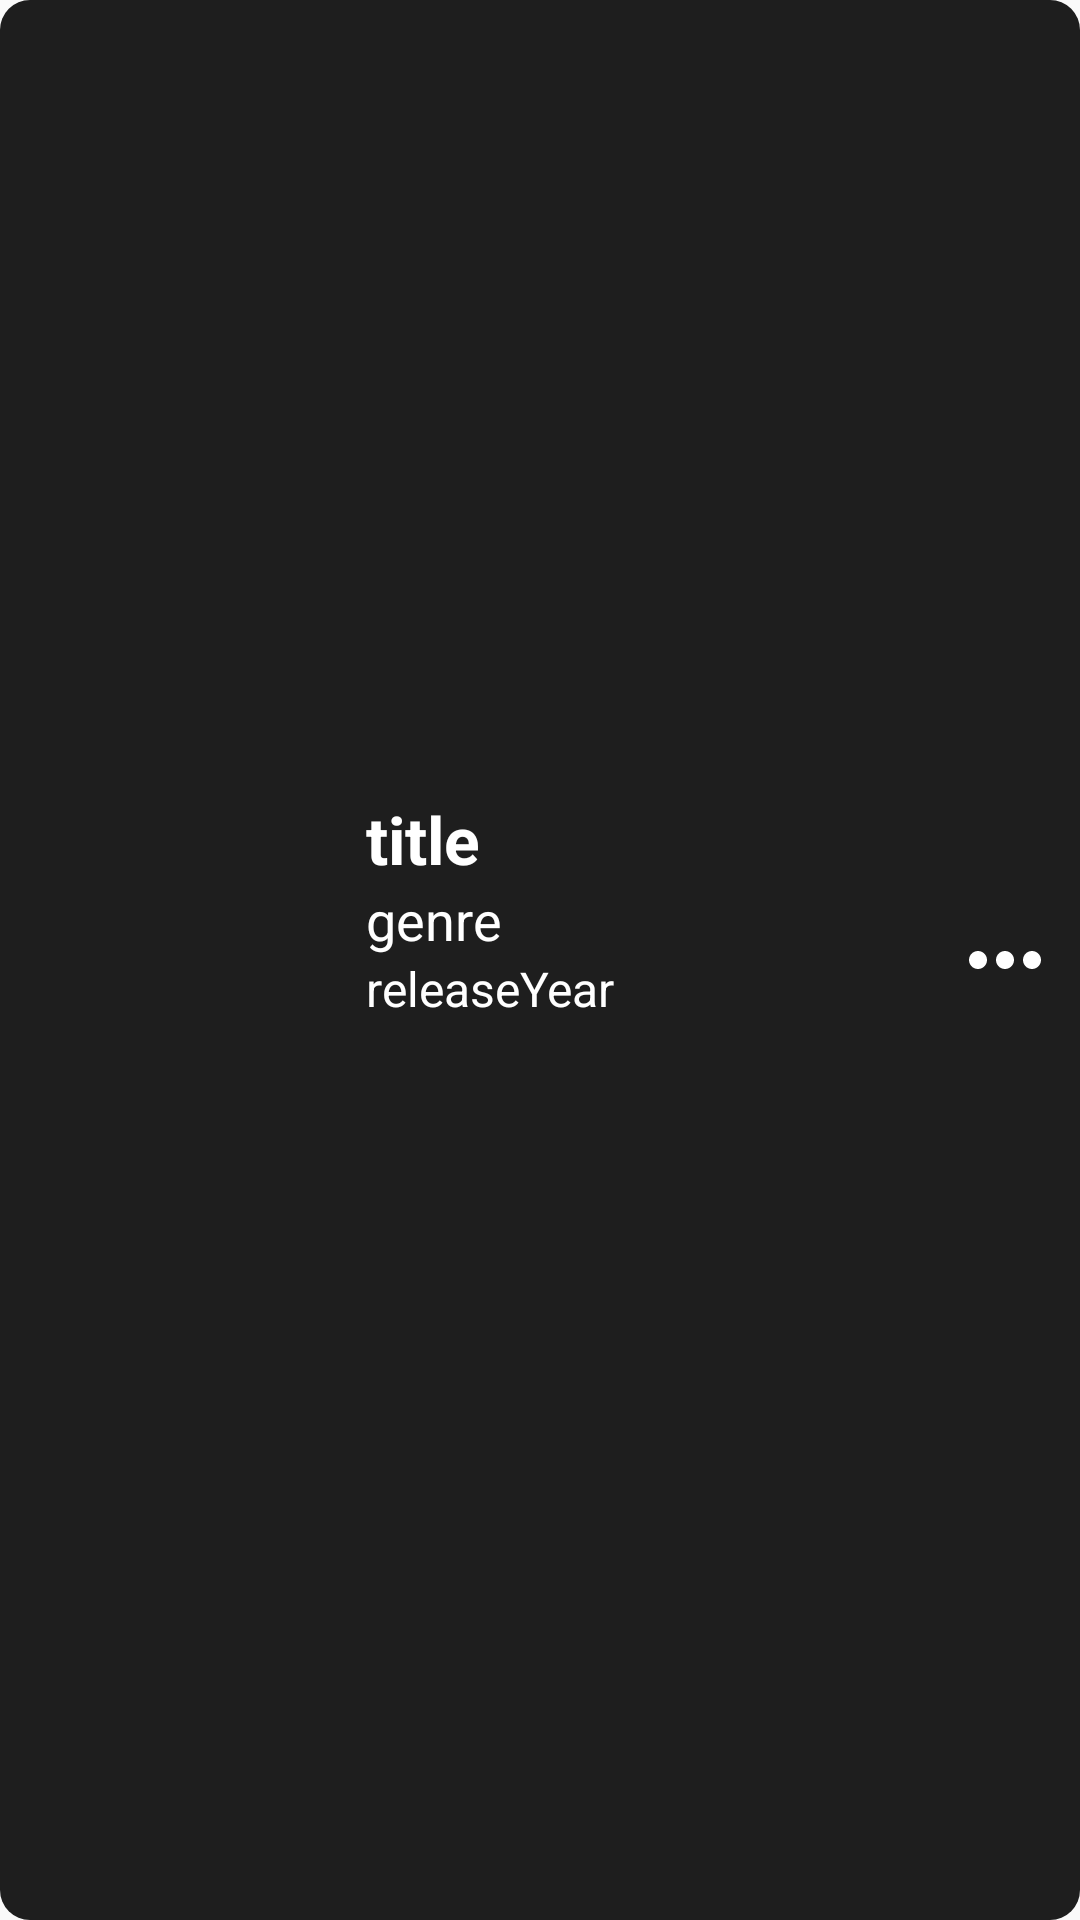

Locate icon controls on the screen. Image size 1080 × 1920, boxes as (x1, y1, x2, y2).
more horiz: (969, 951, 1041, 969)
